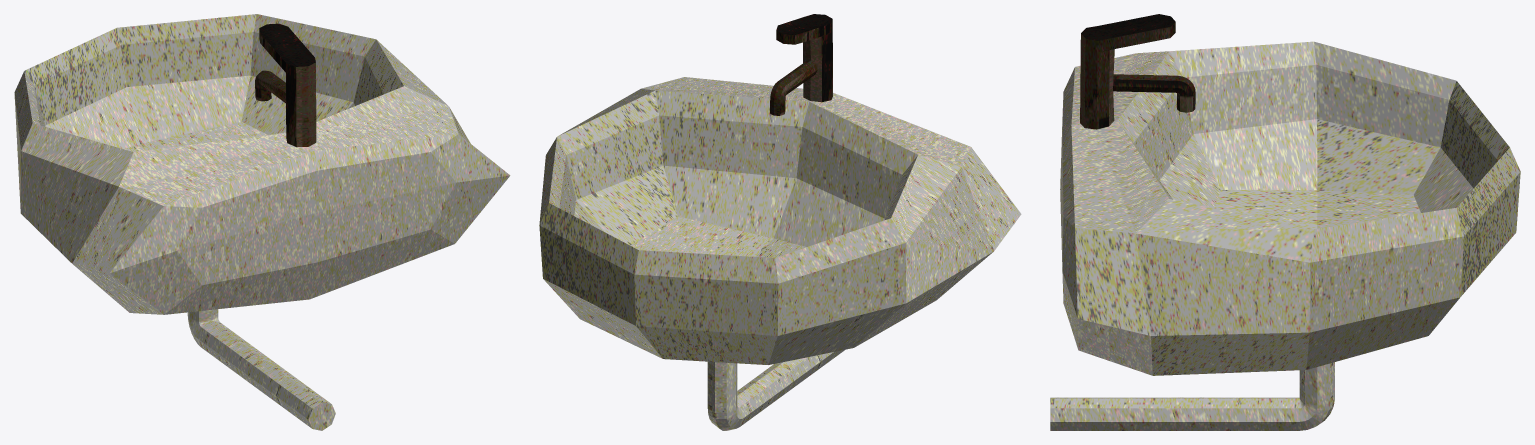
Rendered from sink_bath.glb.
3 renders of one model, left to right at view 1: azimuth 30°, elevation 25°; view 2: azimuth 150°, elevation 25°; view 3: azimuth 270°, elevation 25°, orthographic. The views are drawn at different scales.
Parts seen in each view (by area): view 1: env_bathsink-col; view 2: env_bathsink-col; view 3: env_bathsink-col.
Part boxes in pixels (box(x1,y1,x2,y2)): env_bathsink-col: box(14, 14, 510, 430); env_bathsink-col: box(539, 14, 1021, 430); env_bathsink-col: box(1050, 14, 1520, 430).
Bounding box in the file's own units: 1.84 × 1.57 × 1.63.
2 materials, 2 textured.
